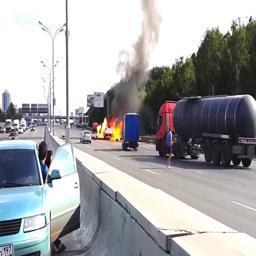fire: (97, 117, 124, 141)
